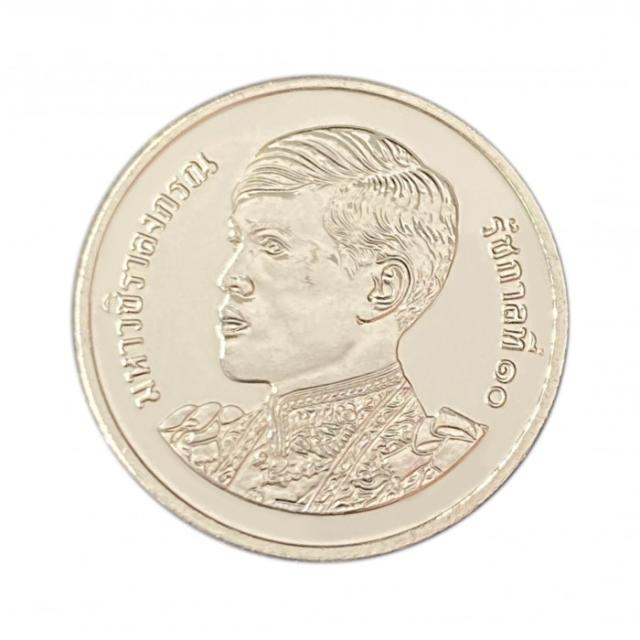1 Bath: (63, 68, 577, 584)
